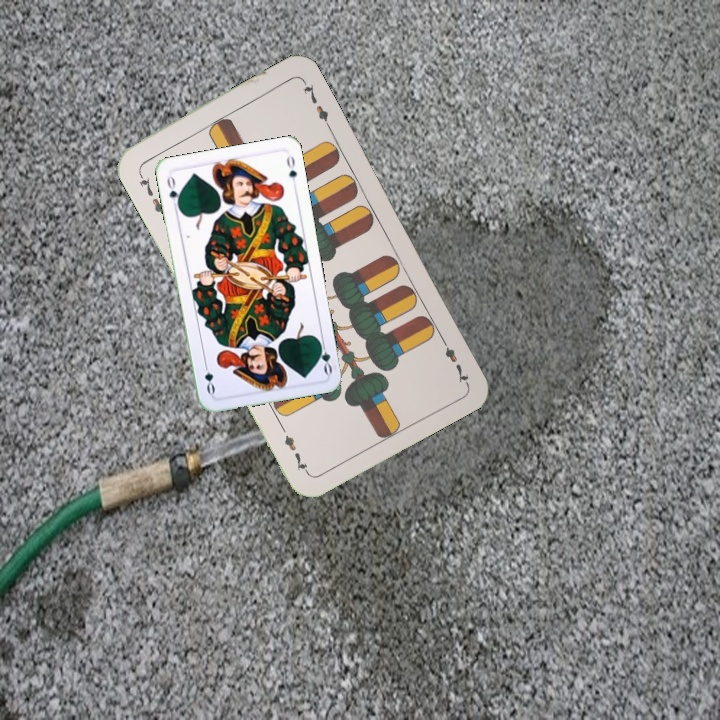E7: (133, 167, 169, 221), (436, 332, 471, 386)
GO: (314, 336, 335, 377), (163, 172, 182, 212)
